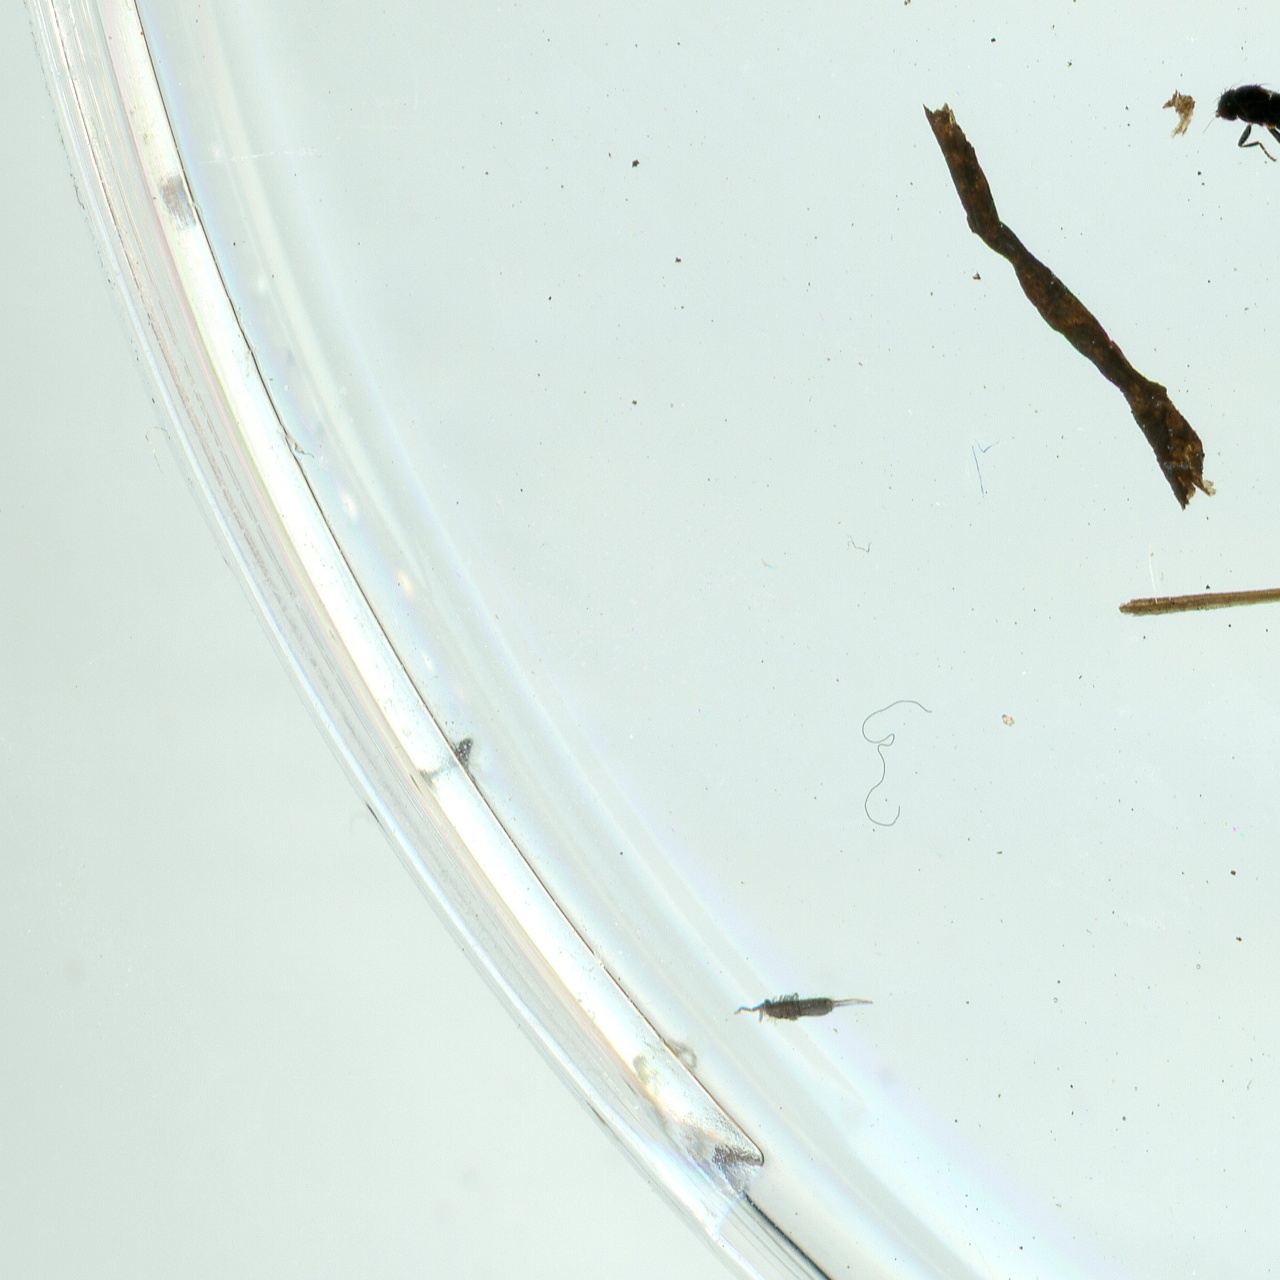arthropod: (1196, 72, 1280, 183), (722, 981, 877, 1028)
